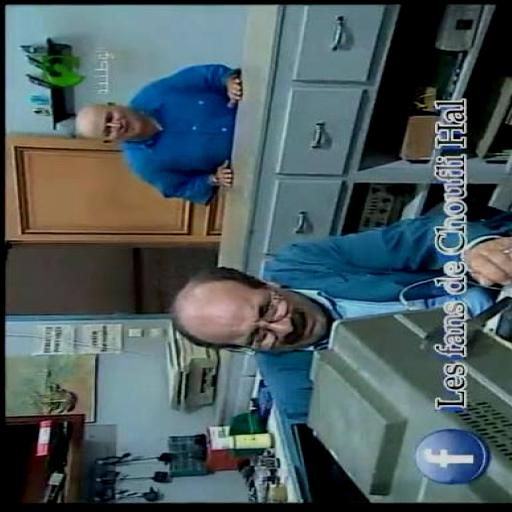beji_matrix: (173, 281, 324, 351)
sboui: (74, 103, 156, 144)
